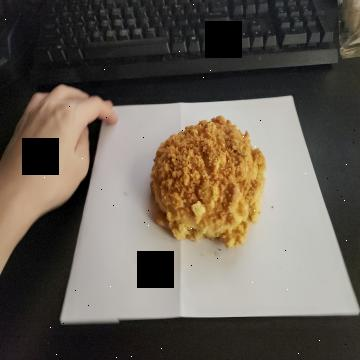soboru_bread: (144, 116, 268, 253)
